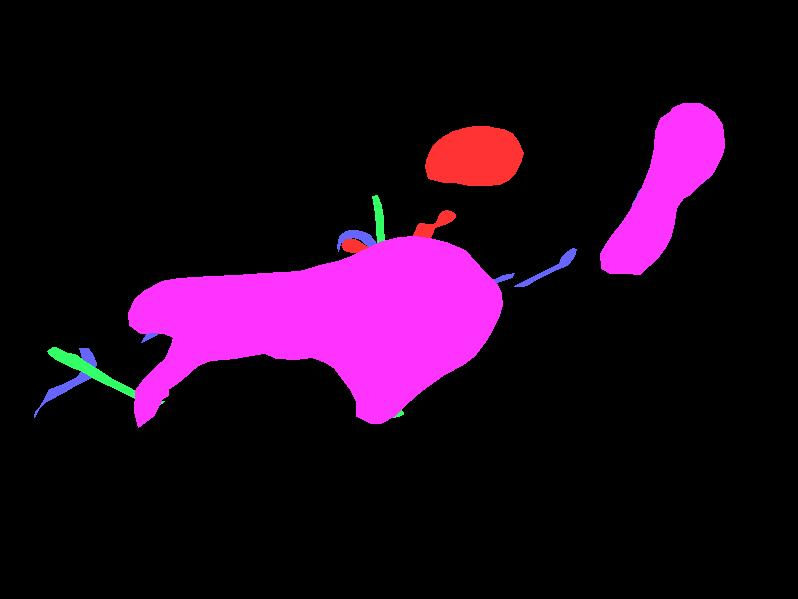Broken part: (369, 195, 403, 417), (47, 347, 164, 408)
Dent: (128, 236, 502, 427), (600, 103, 724, 274)
Missing part: (425, 126, 523, 185), (388, 210, 455, 252), (341, 239, 378, 281), (402, 279, 441, 303)
Scratch: (382, 249, 514, 326), (141, 283, 308, 342), (34, 348, 96, 417), (514, 248, 576, 286), (669, 145, 715, 183), (337, 230, 377, 254), (631, 189, 644, 218)
